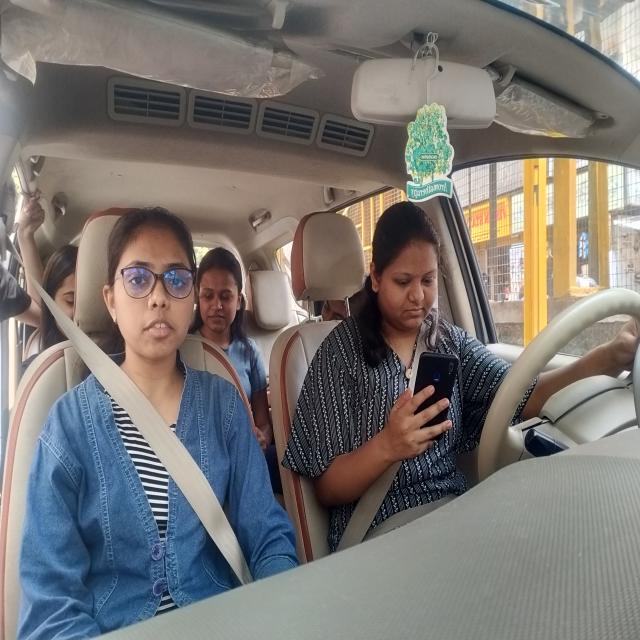mobile: (414, 350, 458, 434)
person: (102, 212, 196, 364), (366, 196, 447, 335), (195, 246, 246, 340), (41, 245, 76, 324)
